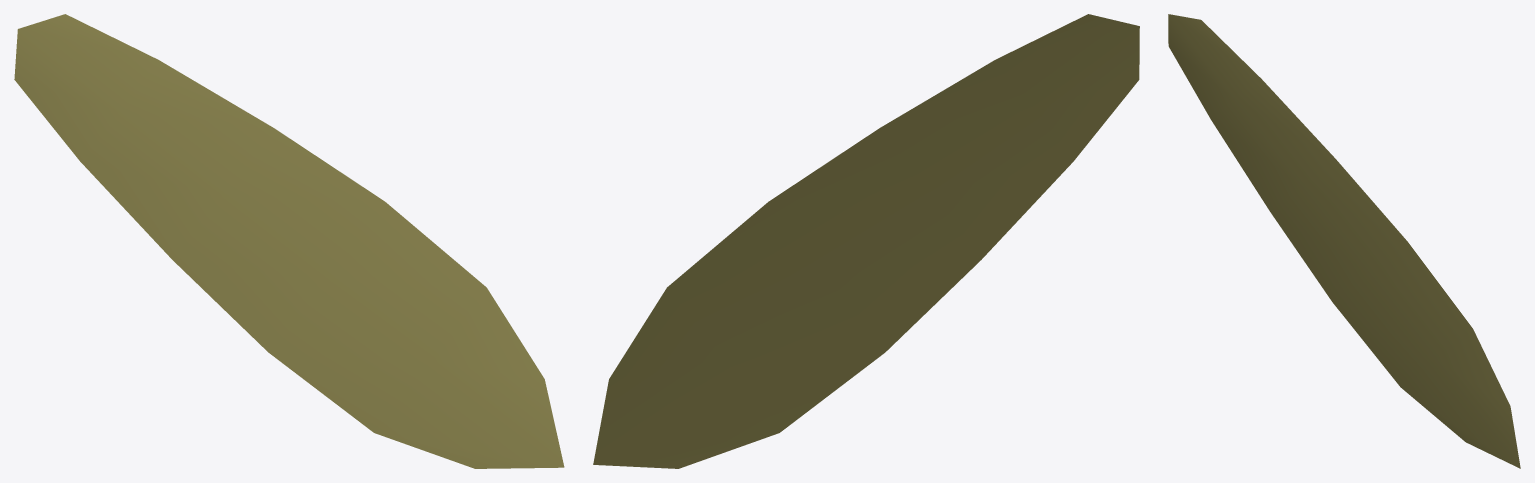
Rendered from lovebird_feather_flight_primary_013.obj.
3 renders of one model, left to right at view 1: azimuth 30°, elevation 25°; view 2: azimuth 150°, elevation 25°; view 3: azimuth 330°, elevation 25°, orthographic. The views are drawn at different scales.
Parts seen in each view (by area): view 1: feather_flight_primary_013; view 2: feather_flight_primary_013; view 3: feather_flight_primary_013.
Boxes of the visible parts, bbox=[...] form: feather_flight_primary_013: bbox=[14, 14, 564, 468]; feather_flight_primary_013: bbox=[593, 14, 1139, 468]; feather_flight_primary_013: bbox=[1168, 14, 1520, 468].
Size of the model in its own units: 0.026 by 0.026 by 0.00016.
